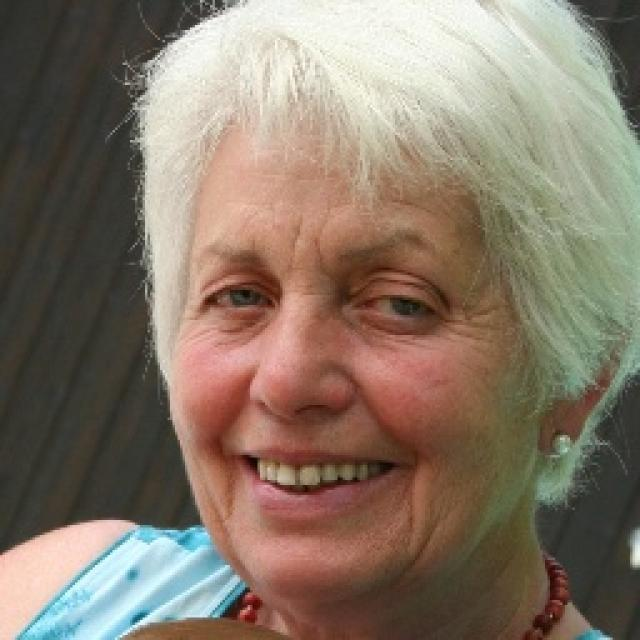earlobe: (532, 297, 632, 461)
